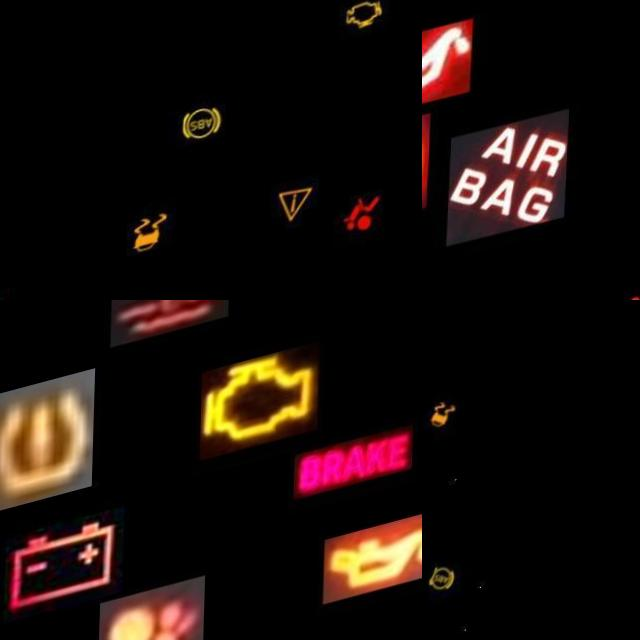Engine cooling system: (111, 300, 232, 354)
